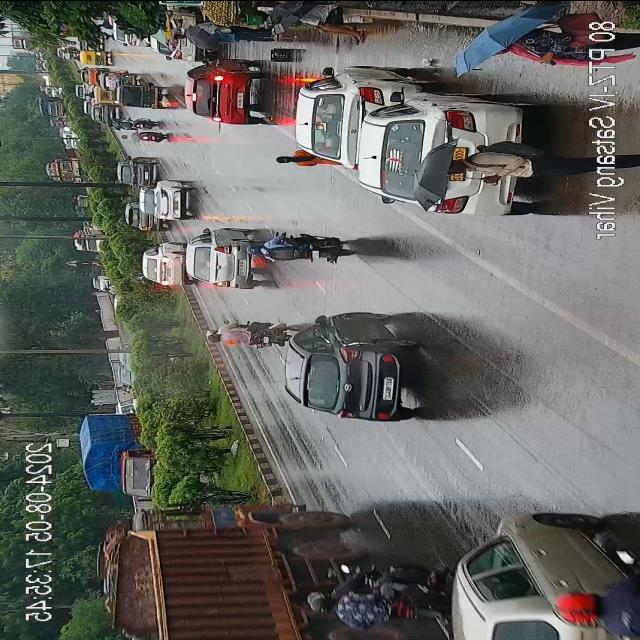2-wheelers: (312, 564, 408, 630), (573, 556, 640, 640), (206, 319, 292, 353), (240, 235, 346, 262), (120, 129, 167, 145), (98, 70, 136, 88), (111, 117, 153, 131), (61, 46, 77, 52)
auto: (120, 81, 164, 109), (80, 49, 114, 68), (95, 88, 118, 102), (80, 40, 100, 51)
car: (444, 509, 636, 640), (285, 310, 430, 430), (359, 91, 467, 211), (294, 66, 397, 160), (185, 57, 262, 126), (185, 229, 257, 292), (142, 245, 185, 291), (153, 178, 197, 222), (158, 14, 196, 62), (117, 153, 156, 187), (125, 200, 156, 233), (114, 28, 152, 48), (92, 103, 114, 121), (80, 68, 98, 80), (84, 100, 95, 114), (75, 82, 90, 92), (58, 51, 74, 60)
pedestrian: (418, 144, 586, 186), (290, 2, 364, 46), (174, 16, 272, 47), (486, 32, 578, 64), (273, 150, 329, 168)
truck: (128, 506, 350, 640), (76, 409, 160, 512), (44, 148, 90, 184), (68, 224, 104, 254), (36, 95, 72, 119)
